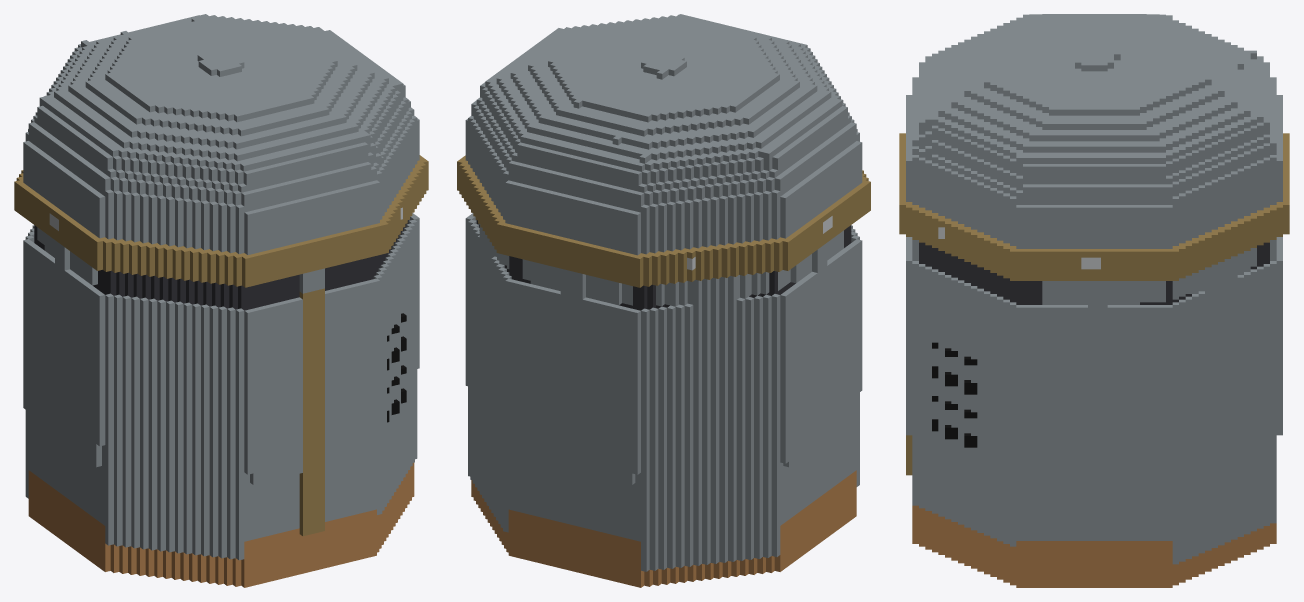
Rendered from helmet_plate.glb.
3 renders of one model, left to right at view 1: azimuth 30°, elevation 25°; view 2: azimuth 150°, elevation 25°; view 3: azimuth 270°, elevation 25°, orthographic. The views are drawn at different scales.
Parts seen in each view (by area): view 1: helmet_plate:compound; view 2: helmet_plate:compound; view 3: helmet_plate:compound.
Boxes of the visible parts, x1,y1,x2,y2 form: helmet_plate:compound: (14,14,428,587); helmet_plate:compound: (457,14,870,587); helmet_plate:compound: (899,14,1289,587).
Size of the model in its own units: 0.24 by 0.308 by 0.24.
